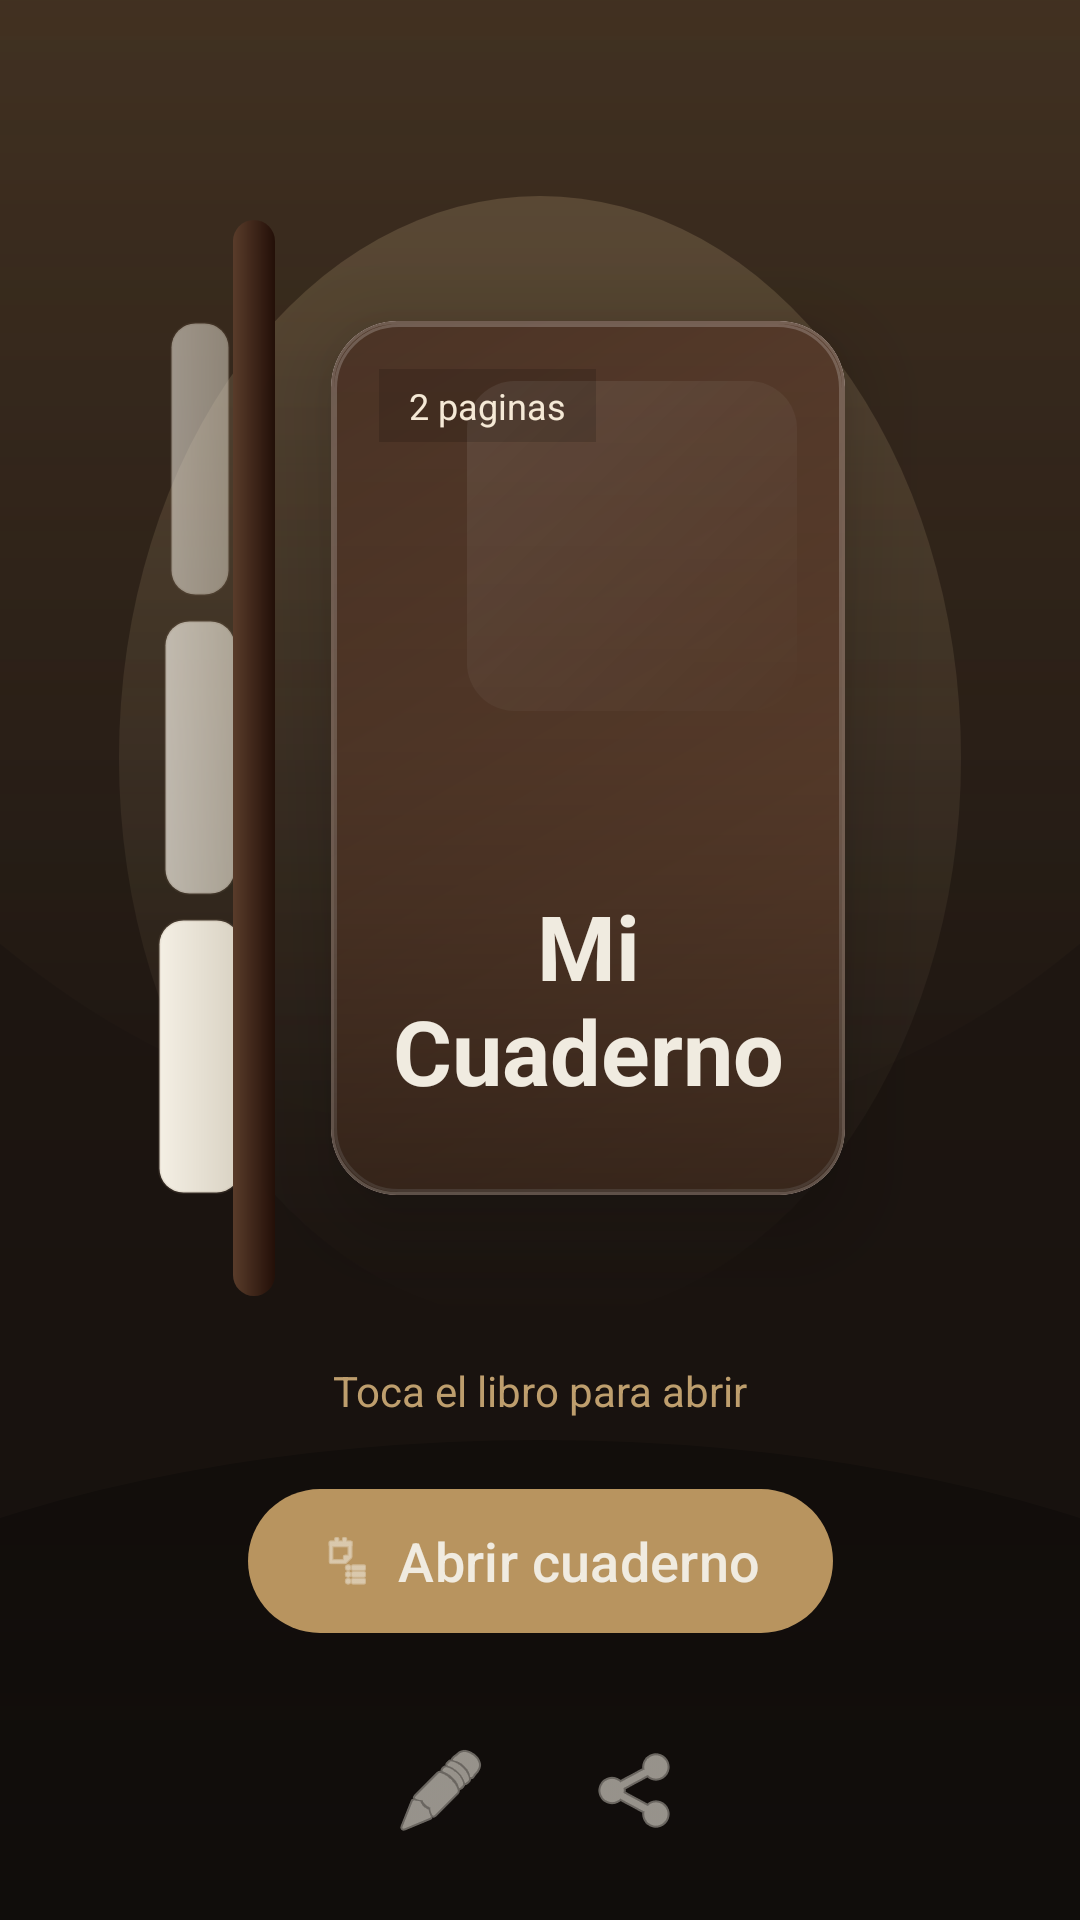

Where icons sit on this 1080*1920 app screen, as (x1, y1, x2, y2):
edit: (400, 1750, 481, 1831)
share: (598, 1753, 670, 1828)
